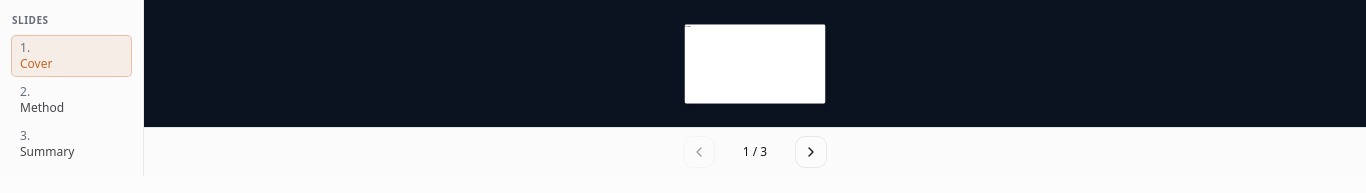
Scenario: PptxArtifactPreview › advances to the next slide via the next button
The width and height of the screenshot is (1366, 193).
Check: the text "1 / 3" is shown, box x1=743 y1=143 x2=767 y2=160
Click the button named "next slide".
click(811, 152)  # box x1=795 y1=136 x2=827 y2=168
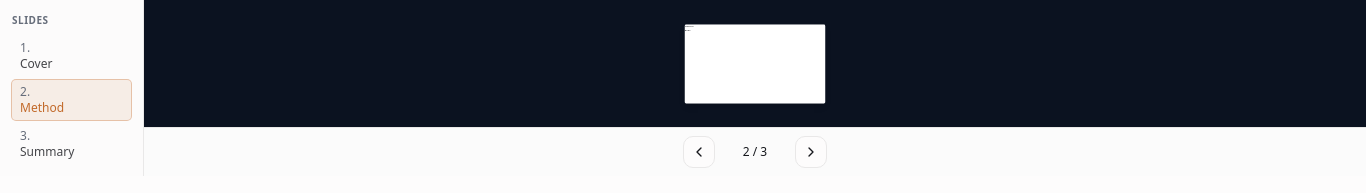
Check: the text "Body." is shown, box x1=685 y1=28 x2=691 y2=31
Check: the text "2 / 3" is shown, box x1=743 y1=143 x2=767 y2=160
